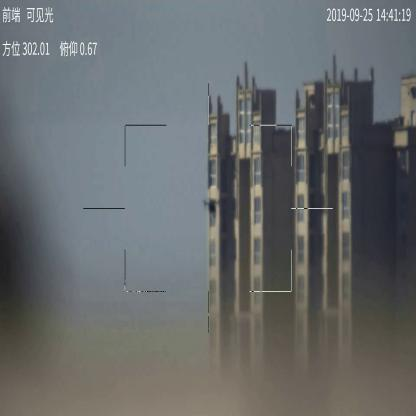uav: (201, 198, 224, 219)
